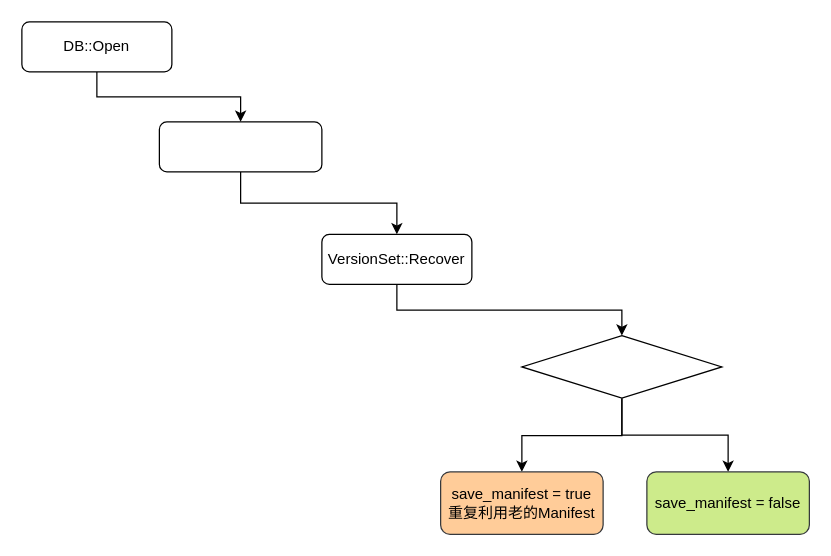
Some shapes in this 831 by 556 pixel diagram are drawn without their labels. Each missing label, with the centre of its shape:
DBImpl::Recover: the point at 240,146
ReuseManifest(): the point at 621,366
